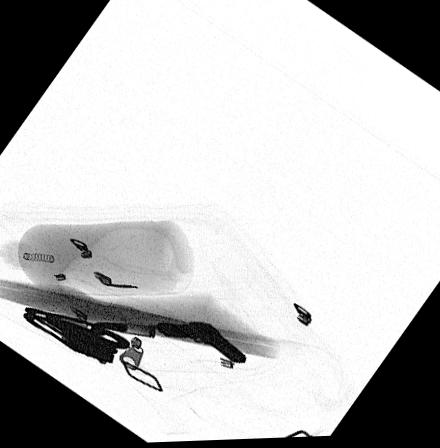Bullet: (93, 321, 153, 336)
Gun: (155, 321, 246, 365)
HandCuffs: (22, 305, 129, 365)
